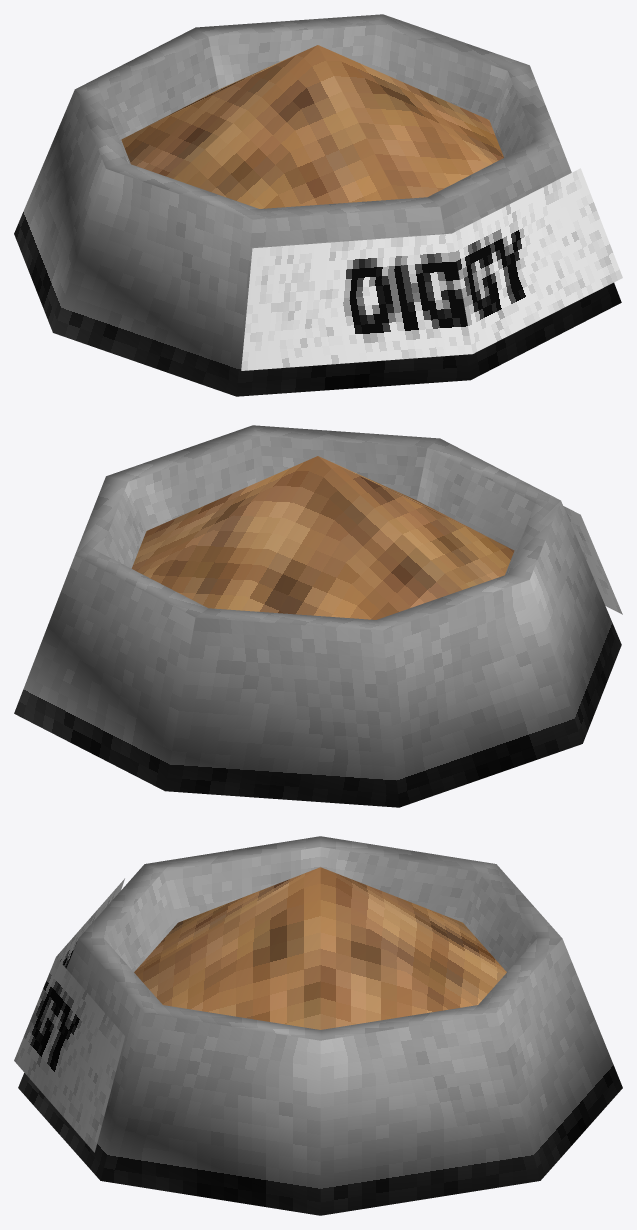
The model's file is DogBowl.fbx.
3 renders of one model, top to bottom at view 1: azimuth 30°, elevation 25°; view 2: azimuth 150°, elevation 25°; view 3: azimuth 270°, elevation 25°, orthographic.
Parts seen in each view (by area): view 1: DogBowl, Food; view 2: DogBowl, Food; view 3: DogBowl, Food.
Part boxes in pixels (x1,y1,x2,y2): DogBowl: [14, 14, 622, 396]; Food: [121, 45, 503, 208]; DogBowl: [14, 425, 622, 807]; Food: [131, 456, 514, 619]; DogBowl: [14, 836, 622, 1215]; Food: [134, 867, 506, 1029].
Bounding box in the file's own units: 147 × 59.07 × 148.
